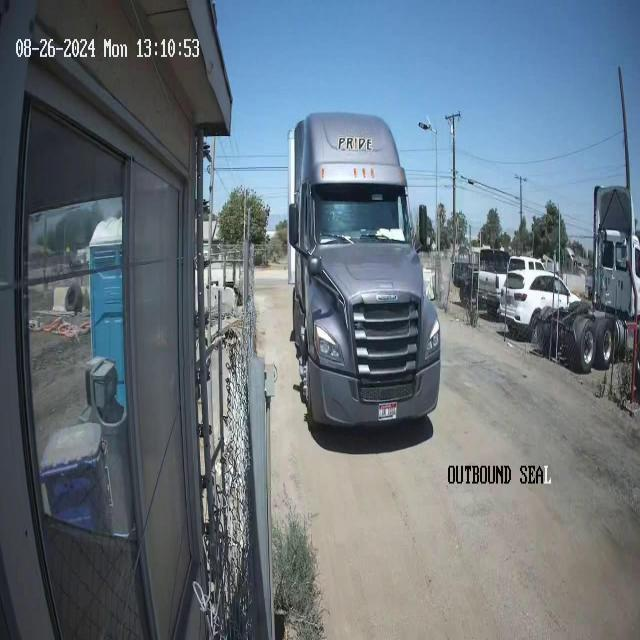TRUCK_IN: (286, 110, 442, 432)
